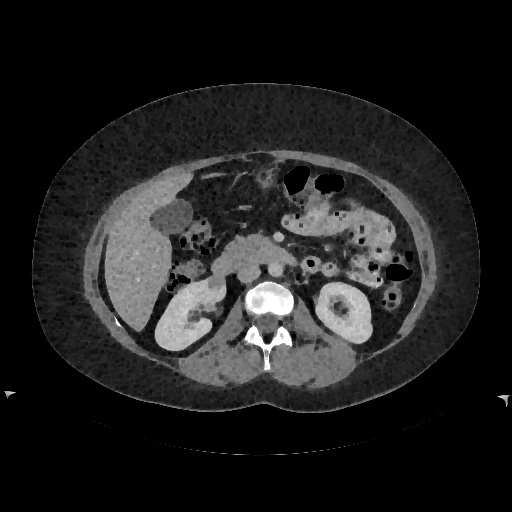Lesion: (202, 273, 229, 295)
